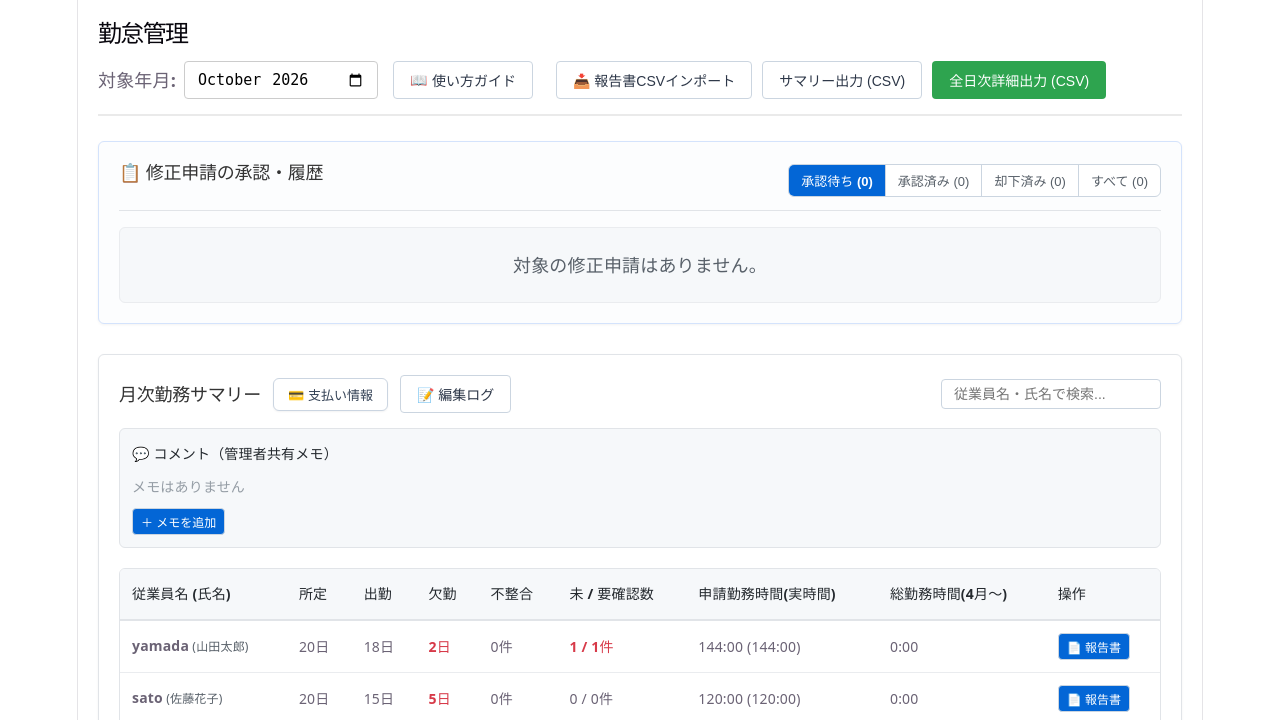
Test: AttendancePage - Search › 合致する従業員がいない場合、該当なしメッセージが表示されること
The width and height of the screenshot is (1280, 720).
Expected: the text "yamada" is shown, [132,636,189,655]
Type "tanaka" into the field with placeholder "従業員名・氏名で検索..." at {"x": 1051, "y": 394}, box [941,379,1161,409]
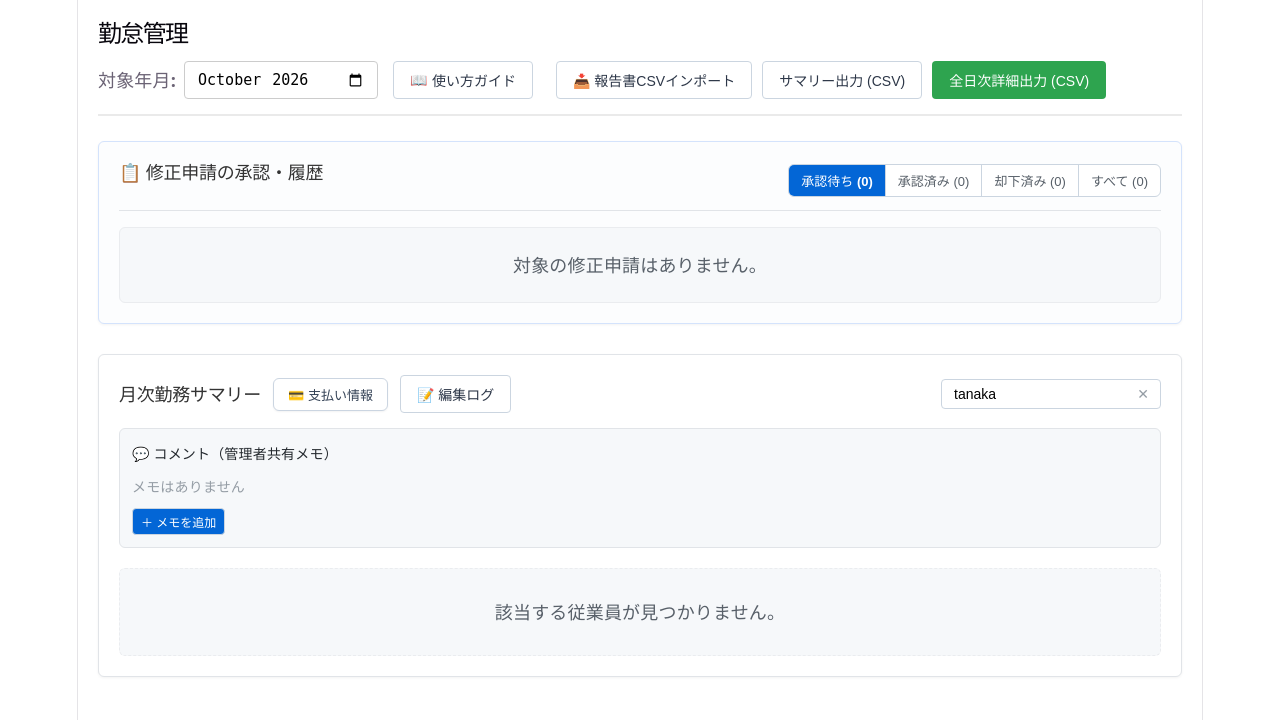
Expected: the text "yamada" is not shown
Expected: the text "sato" is not shown
Expected: the text "該当する従業員が見つかりません。" is shown, [119,568,1161,656]
